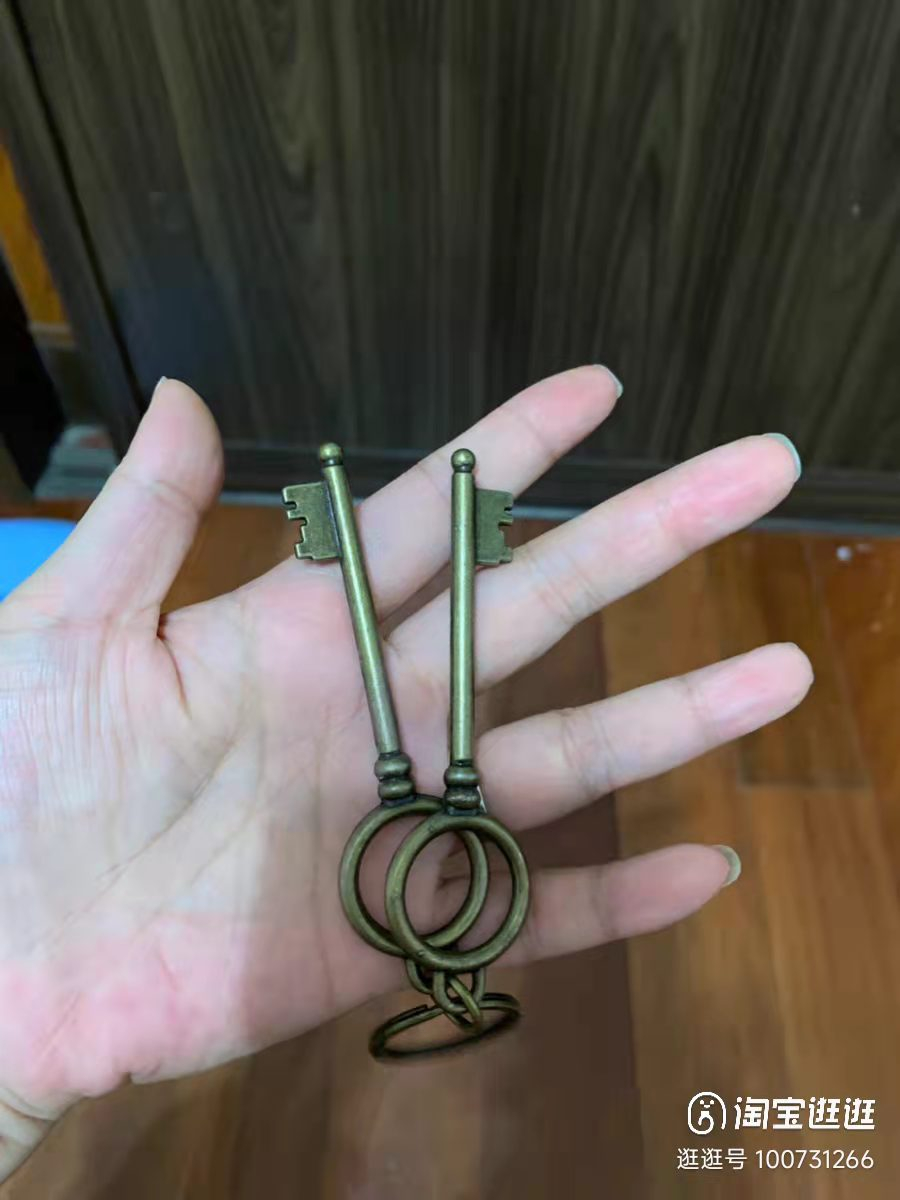key: (272, 434, 502, 946), (383, 445, 542, 966)
